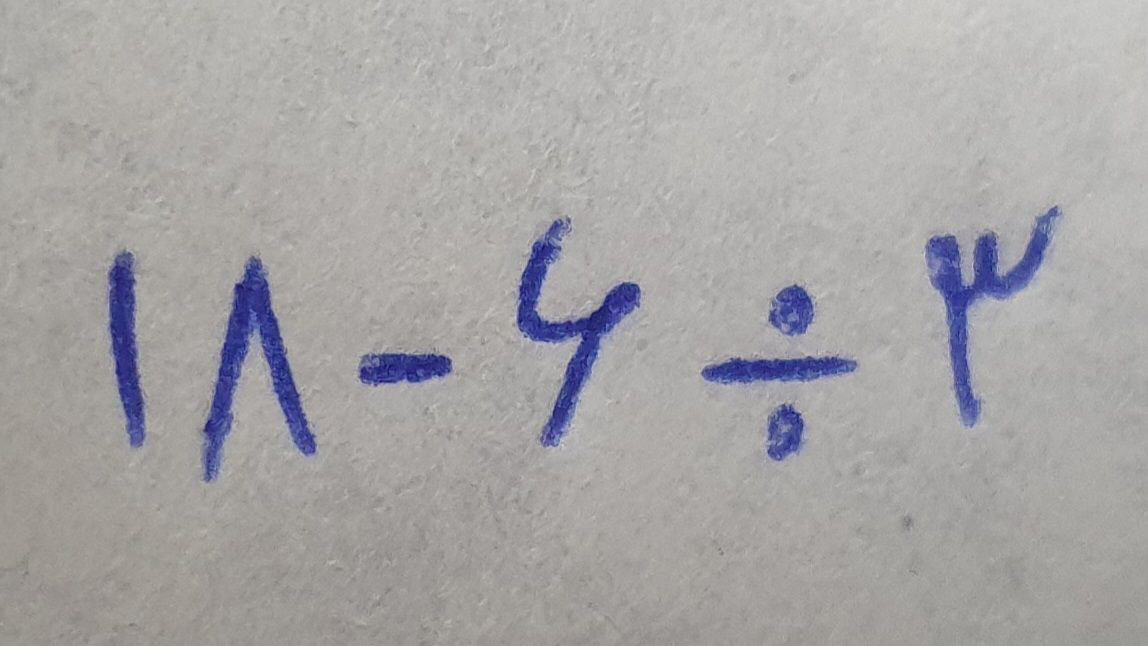character: (926, 204, 1061, 427), (516, 216, 642, 449), (701, 285, 859, 459), (201, 255, 318, 486), (108, 251, 148, 452), (358, 352, 454, 386)
